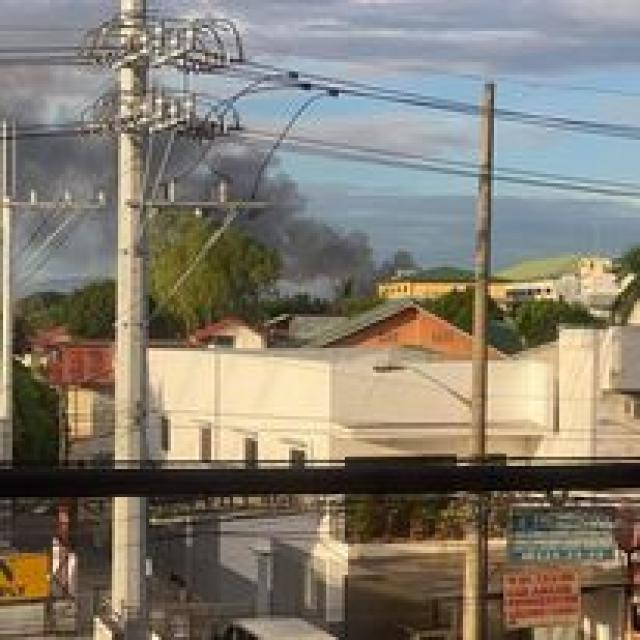Smoke: (226, 153, 370, 300)
